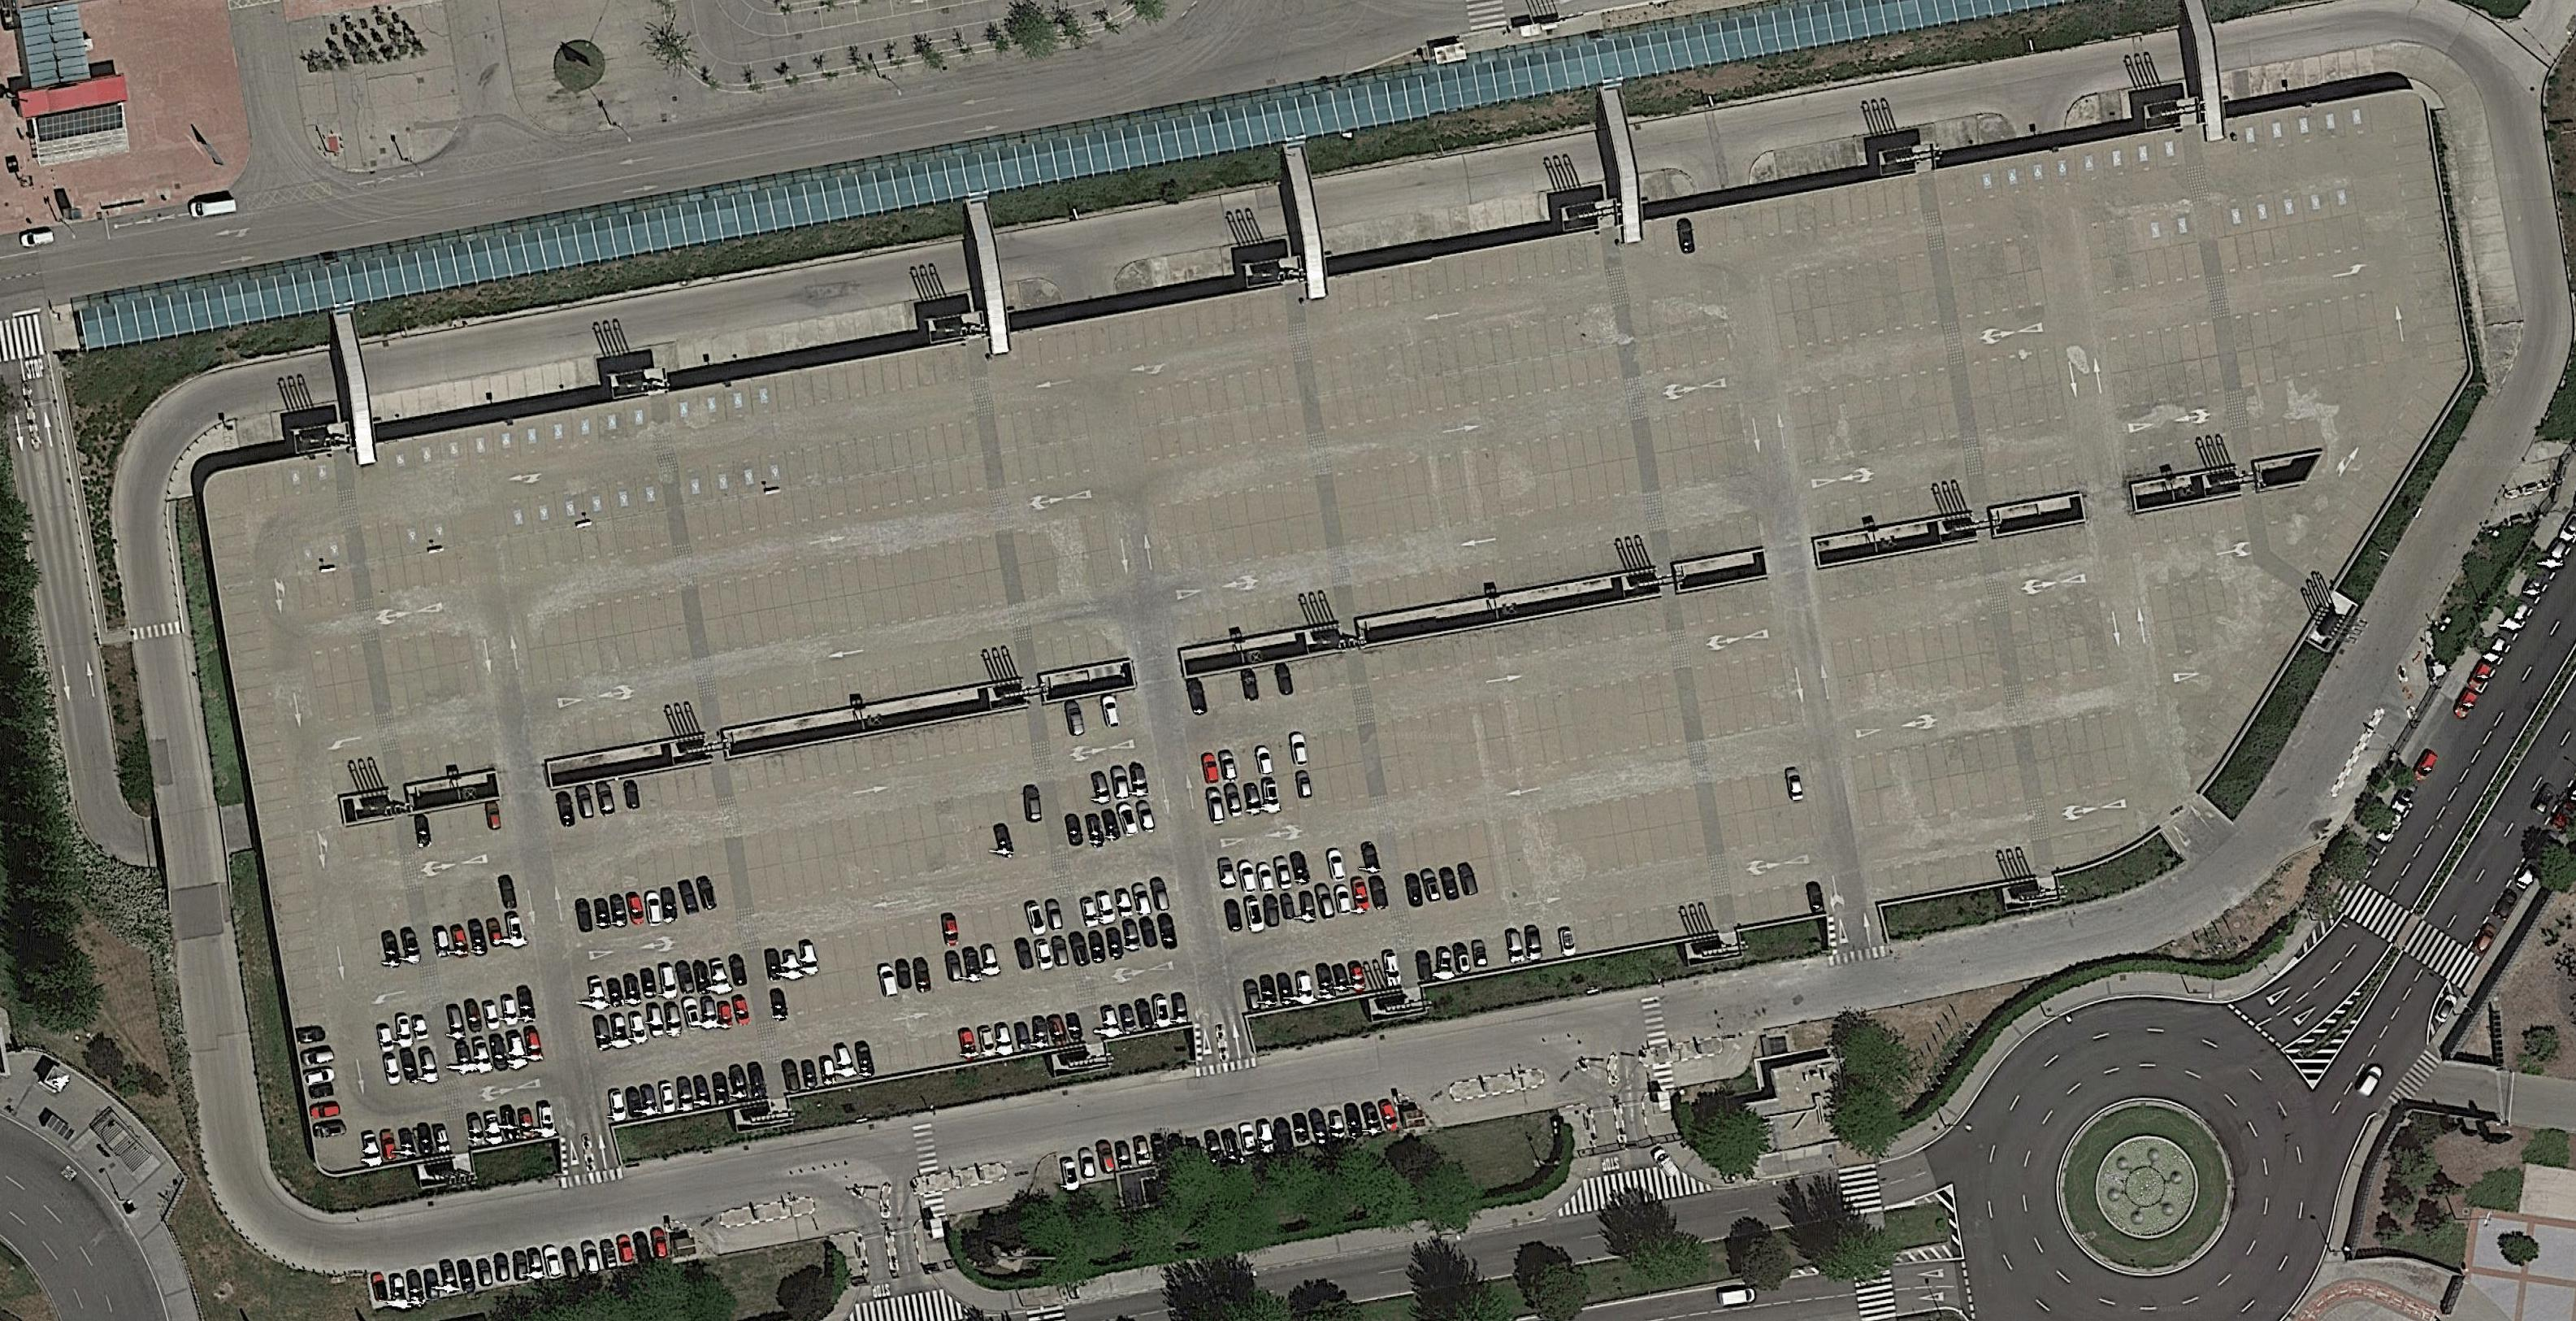parkingspot: (207, 512, 350, 1141), (2392, 39, 2527, 329), (2298, 376, 2451, 591), (695, 529, 1003, 622), (1317, 342, 1625, 435), (1379, 704, 1687, 797), (1330, 418, 1638, 511), (670, 0, 1002, 86), (746, 816, 1052, 908), (702, 566, 1009, 659), (759, 893, 1066, 986), (766, 930, 1072, 1023), (1337, 455, 1643, 548), (1392, 782, 1704, 873), (1411, 895, 1721, 986), (1399, 819, 1709, 910), (1360, 596, 1669, 687), (1374, 669, 1682, 760), (684, 453, 988, 544), (679, 416, 983, 507), (1310, 307, 1620, 396), (668, 342, 971, 433), (726, 708, 1032, 797), (741, 782, 1046, 871), (1349, 531, 1657, 618), (778, 1008, 1084, 1095), (364, 1225, 675, 1311), (716, 644, 1022, 730), (2182, 585, 2320, 770), (382, 394, 655, 482), (1017, 285, 1290, 371), (1652, 174, 1923, 259), (1337, 229, 1605, 315), (1933, 126, 2187, 209), (2387, 121, 2467, 367), (675, 298, 911, 372), (367, 352, 601, 425), (1197, 1092, 1402, 1166), (1327, 189, 1544, 258), (1837, 649, 2005, 718), (1194, 723, 1365, 790), (1828, 612, 2000, 679), (1138, 398, 1308, 465), (1158, 511, 1328, 578), (1200, 760, 1370, 827), (1857, 763, 2027, 831), (1786, 364, 1956, 431), (1793, 401, 1963, 468), (519, 585, 687, 652), (1184, 650, 1352, 718), (1850, 726, 2019, 794), (1768, 248, 1936, 315), (1212, 837, 1384, 903), (527, 622, 694, 689), (1131, 362, 1301, 428), (1152, 475, 1322, 541), (1170, 585, 1340, 650), (552, 763, 717, 831), (589, 987, 758, 1053), (1775, 286, 1943, 352), (1219, 873, 1391, 937), (507, 511, 673, 576), (500, 472, 667, 537), (537, 698, 707, 762), (566, 836, 731, 901), (1869, 839, 2037, 903), (1805, 475, 1973, 539), (584, 950, 751, 1014), (1818, 541, 1985, 605), (604, 1060, 769, 1124), (1239, 952, 1404, 1016), (571, 873, 737, 935), (2229, 288, 2379, 354), (2216, 212, 2366, 278), (2234, 325, 2386, 389), (2217, 175, 2359, 238), (2234, 96, 2376, 157), (2229, 44, 2376, 101), (2089, 239, 2207, 298), (2110, 354, 2226, 411), (2084, 202, 2201, 259), (2121, 428, 2238, 485), (2105, 318, 2219, 374), (2133, 495, 2249, 549), (1074, 873, 1175, 930), (1716, 799, 1817, 856), (1963, 342, 2062, 399), (443, 984, 539, 1043), (1054, 1134, 1155, 1190), (423, 873, 520, 930), (1054, 760, 1152, 817), (1017, 548, 1116, 603), (1010, 511, 1110, 566), (1711, 763, 1810, 819), (1653, 436, 1753, 492), (1647, 399, 1746, 455), (1626, 285, 1726, 340), (1084, 910, 1180, 967), (1690, 649, 1788, 704), (2007, 593, 2105, 649), (1951, 268, 2049, 324), (451, 1021, 546, 1078), (429, 912, 529, 965), (998, 435, 1098, 489), (992, 398, 1091, 452), (1633, 325, 1732, 379), (1943, 231, 2042, 285), (365, 546, 463, 600), (1697, 687, 1795, 741), (1731, 876, 1828, 930), (2014, 632, 2111, 686), (1993, 521, 2091, 575), (1970, 382, 2068, 436), (1042, 689, 1142, 741), (1094, 989, 1194, 1041), (1982, 455, 2081, 507), (379, 623, 475, 677), (386, 659, 482, 713), (1061, 799, 1157, 853), (2036, 745, 2132, 799), (2029, 708, 2125, 762), (355, 1119, 453, 1171), (1665, 511, 1763, 563), (244, 452, 338, 505), (1030, 623, 1130, 674), (360, 511, 456, 563), (463, 1099, 559, 1151), (1677, 580, 1775, 630), (411, 799, 505, 851), (397, 735, 493, 785), (741, 0, 860, 37), (2147, 571, 2227, 625), (1771, 136, 1860, 182), (2248, 413, 2323, 462), (370, 1006, 436, 1056), (1148, 244, 1224, 288), (306, 640, 370, 689), (357, 930, 421, 979), (2153, 612, 2217, 660), (377, 1043, 443, 1090), (352, 893, 414, 942), (315, 677, 375, 726), (296, 564, 355, 612), (290, 529, 350, 575), (340, 819, 401, 864), (328, 751, 389, 797), (2049, 824, 2125, 858), (1933, 113, 1980, 153), (2096, 88, 2125, 125), (2258, 489, 2285, 527)
